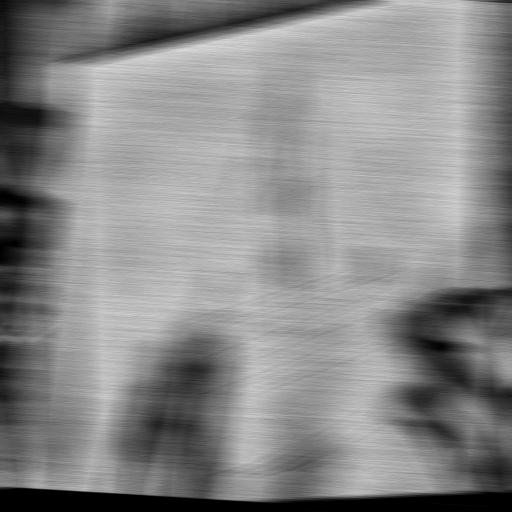boat: (131, 0, 451, 492)
bottom_right: (478, 463, 504, 479)
top_left: (57, 62, 78, 75)
